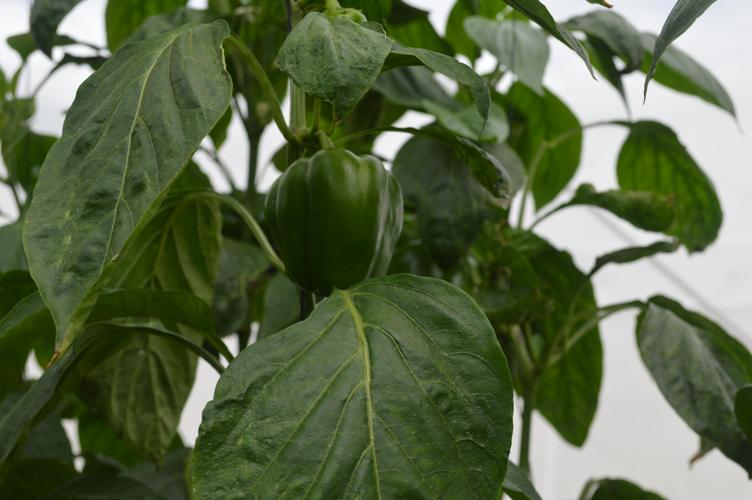BellPepper: (263, 152, 407, 289)
